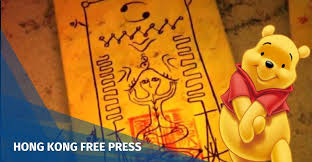Winnie: (238, 24, 309, 118)
